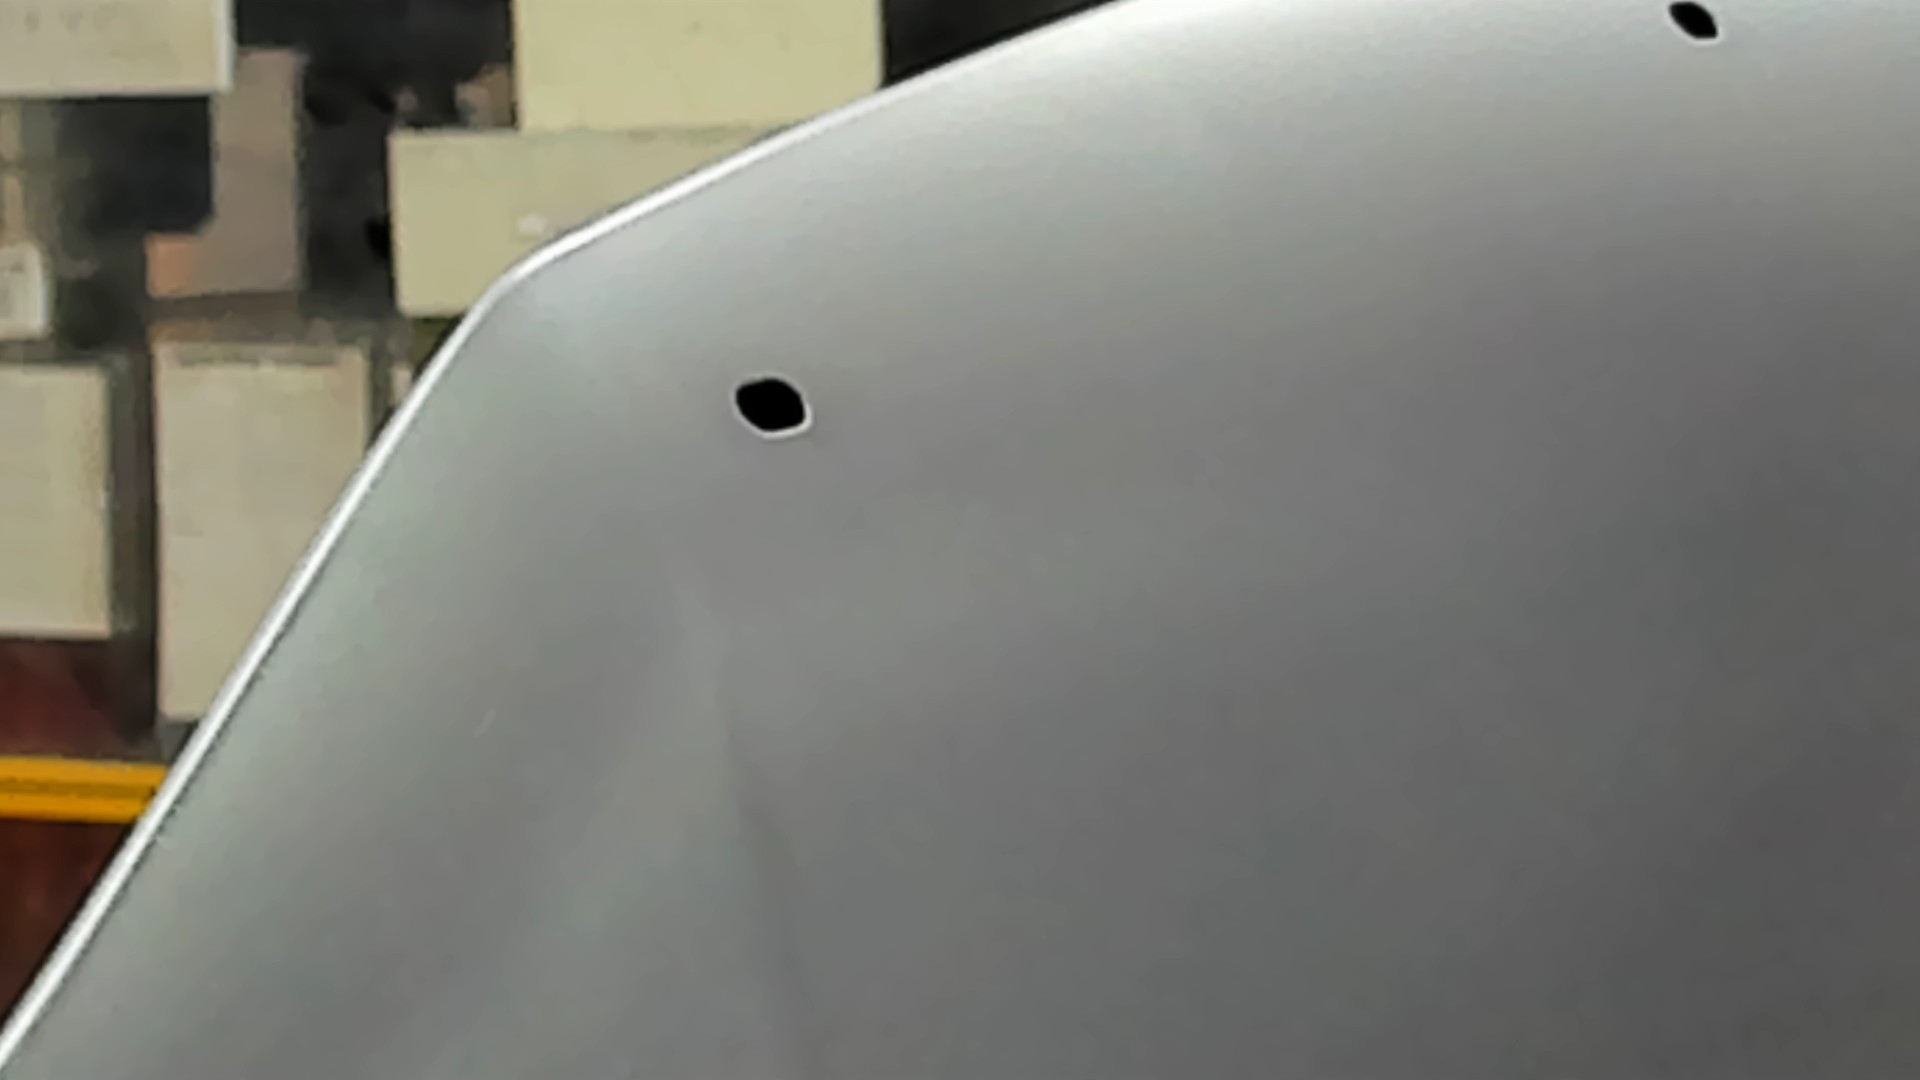amorfo: (727, 365, 819, 447), (1659, 5, 1725, 47)
capo: (942, 131, 1920, 1080)
